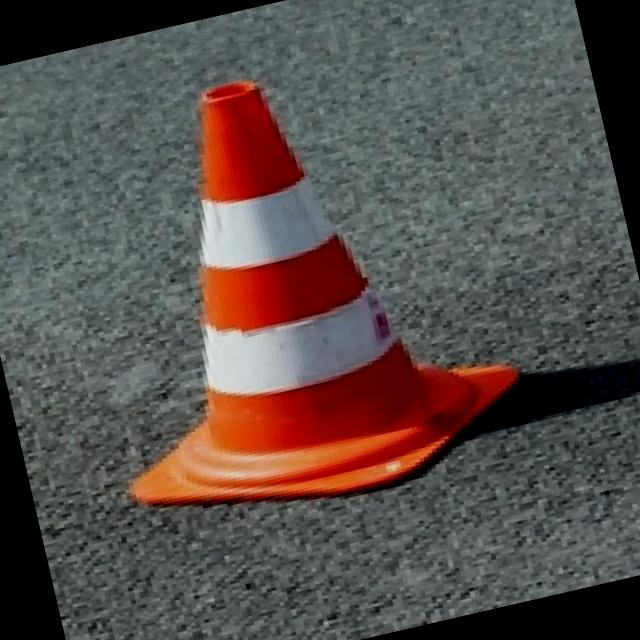Cone: (89, 12, 524, 540)
